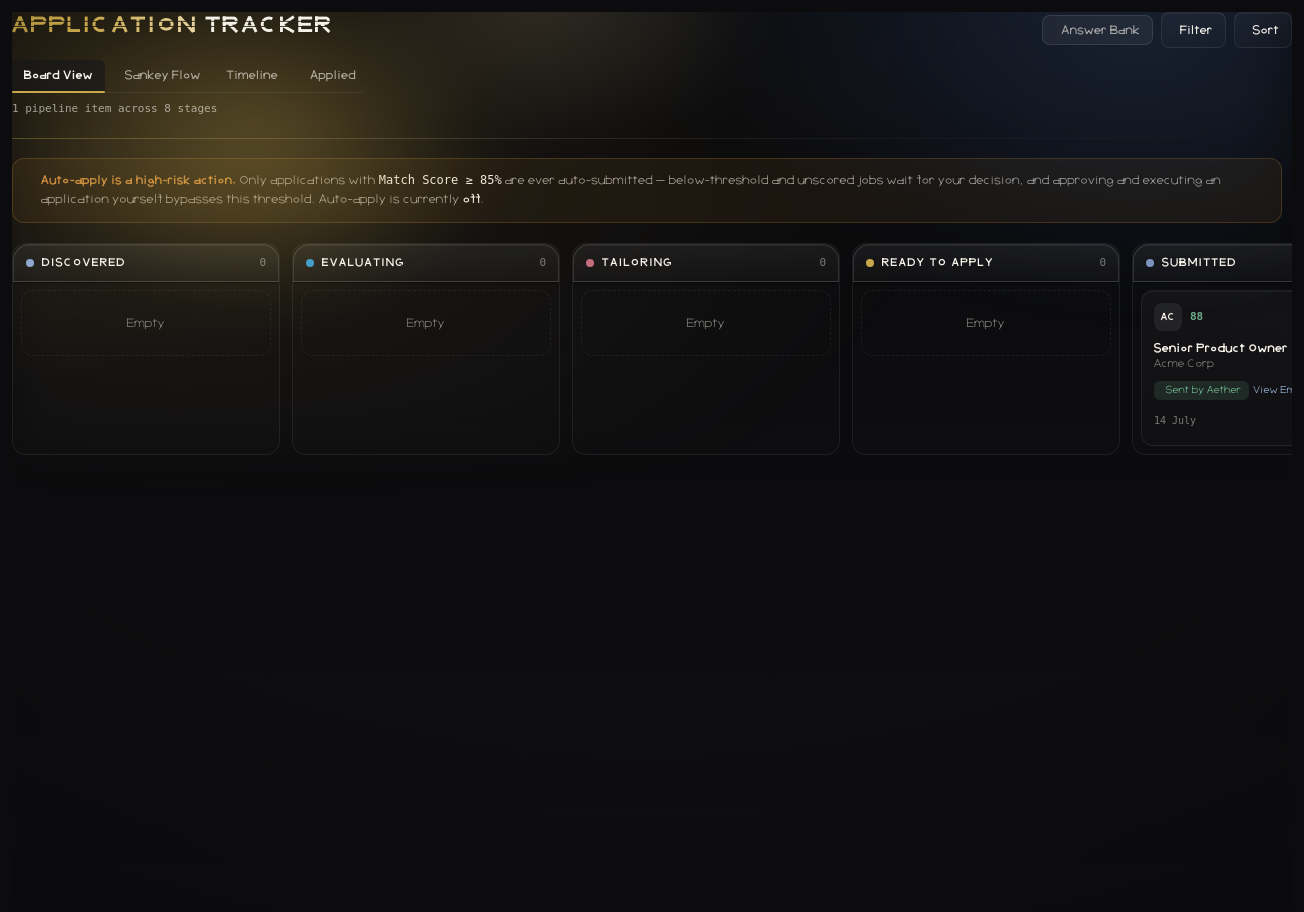
Test: W-SUB — truthful submission state on the board › the detail panel cites checkable evidence for a real send
This screenshot has width=1304, height=912.
Click the button "Senior Product Owner".
click(1221, 348)  # box [1154,341,1288,356]
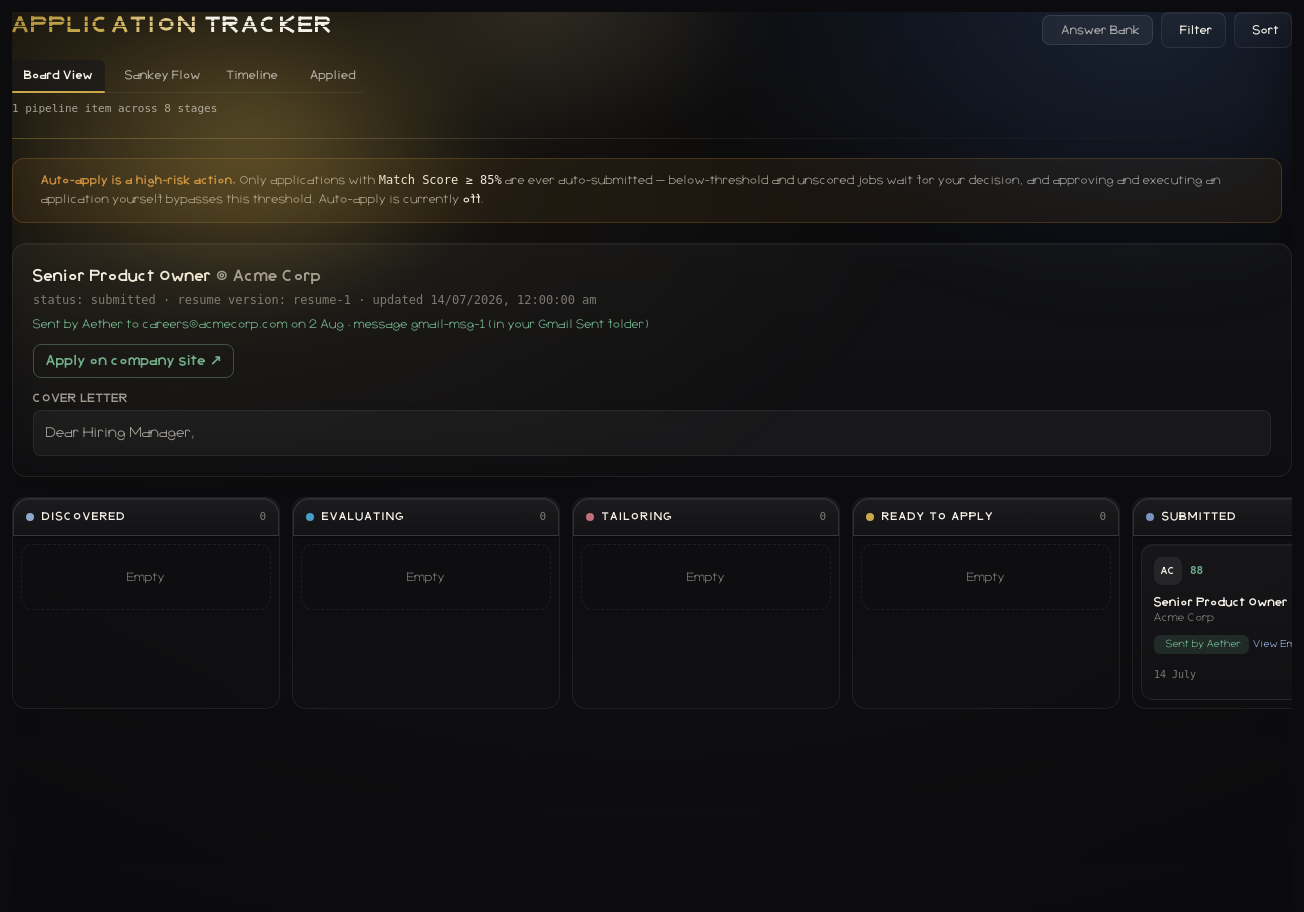
Expected: the text with test id "application-transmission-line" shows "careers@acmecorp.com", [33,318,649,330]
Expected: the text with test id "application-transmission-line" shows "gmail-msg-1", [33,318,649,330]
